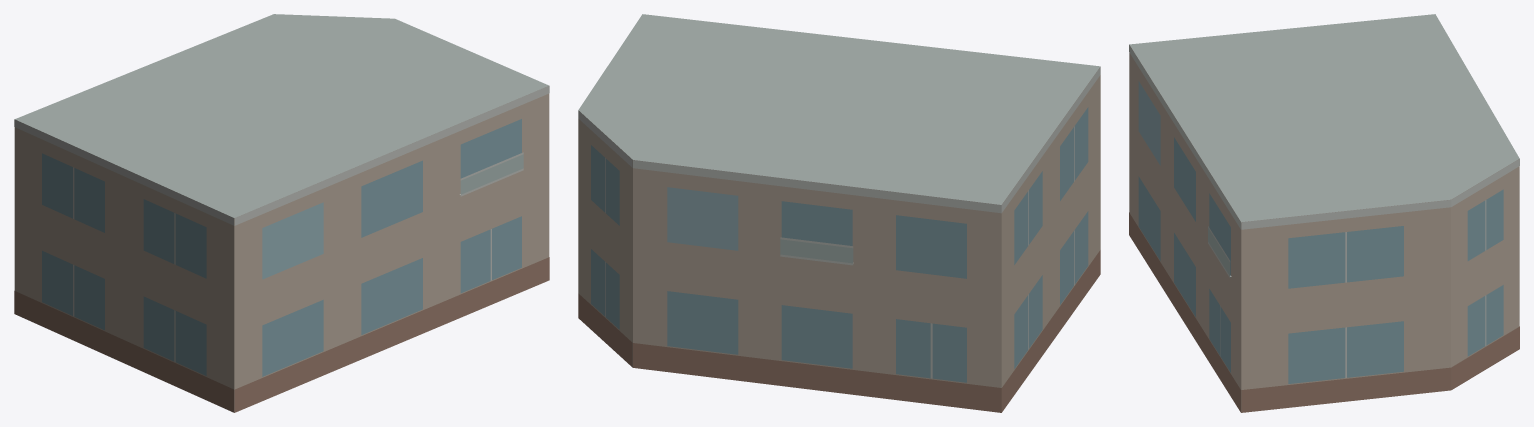
File: survey-upis-33045549.glb
The picture shows the model from 3 angles, left to right: view 1: azimuth 30°, elevation 25°; view 2: azimuth 150°, elevation 25°; view 3: azimuth 270°, elevation 25°; orthographic projection. The views are drawn at different scales.
Visible parts, largest first — view 1: survey-upis-33045549.tmp; view 2: survey-upis-33045549.tmp; view 3: survey-upis-33045549.tmp.
Boxes of the visible parts, x1=… form: survey-upis-33045549.tmp: x1=14, y1=14, x2=549, y2=412; survey-upis-33045549.tmp: x1=578, y1=14, x2=1100, y2=412; survey-upis-33045549.tmp: x1=1129, y1=14, x2=1519, y2=412.
Size of the model in its own units: 14.29 by 6.1 by 11.33.
